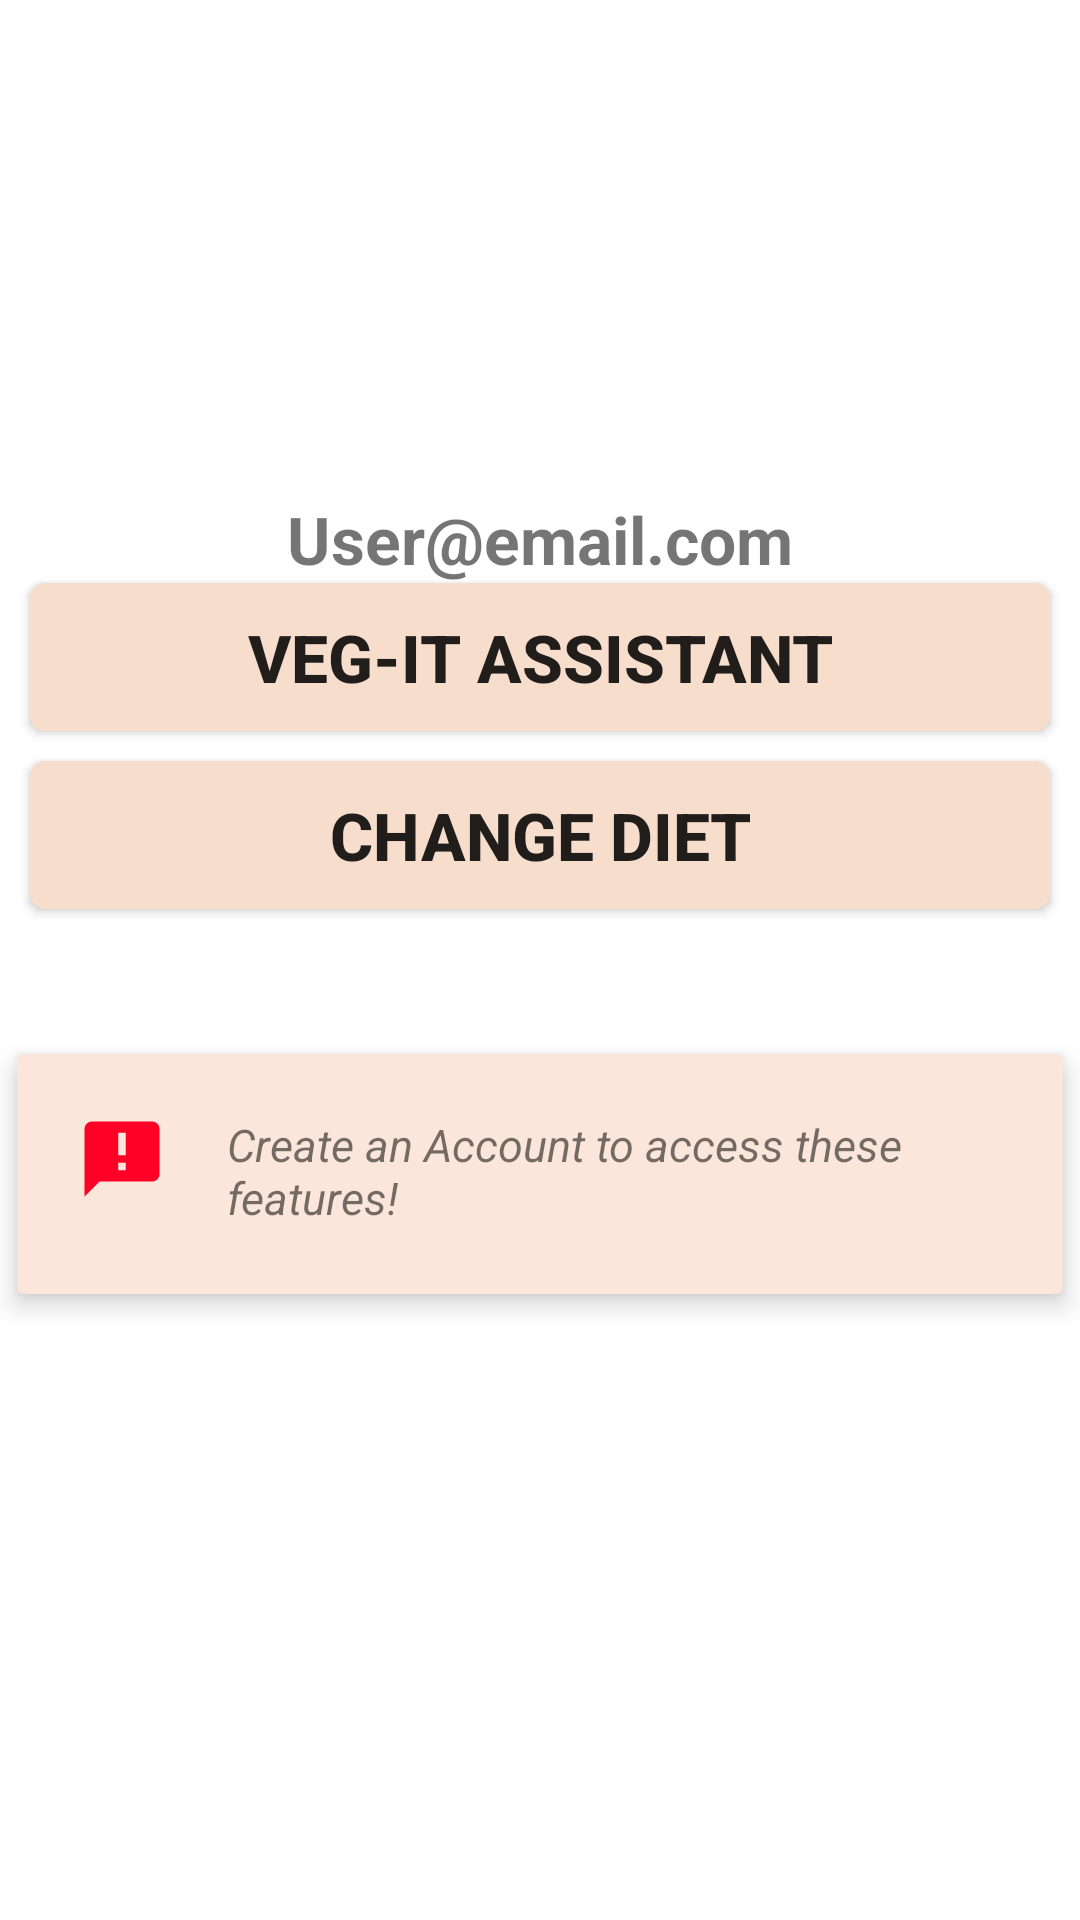

Where to tap for icons on this 1080 x 1920 app screen, as point (x, y):
announcement: point (122, 1159)
